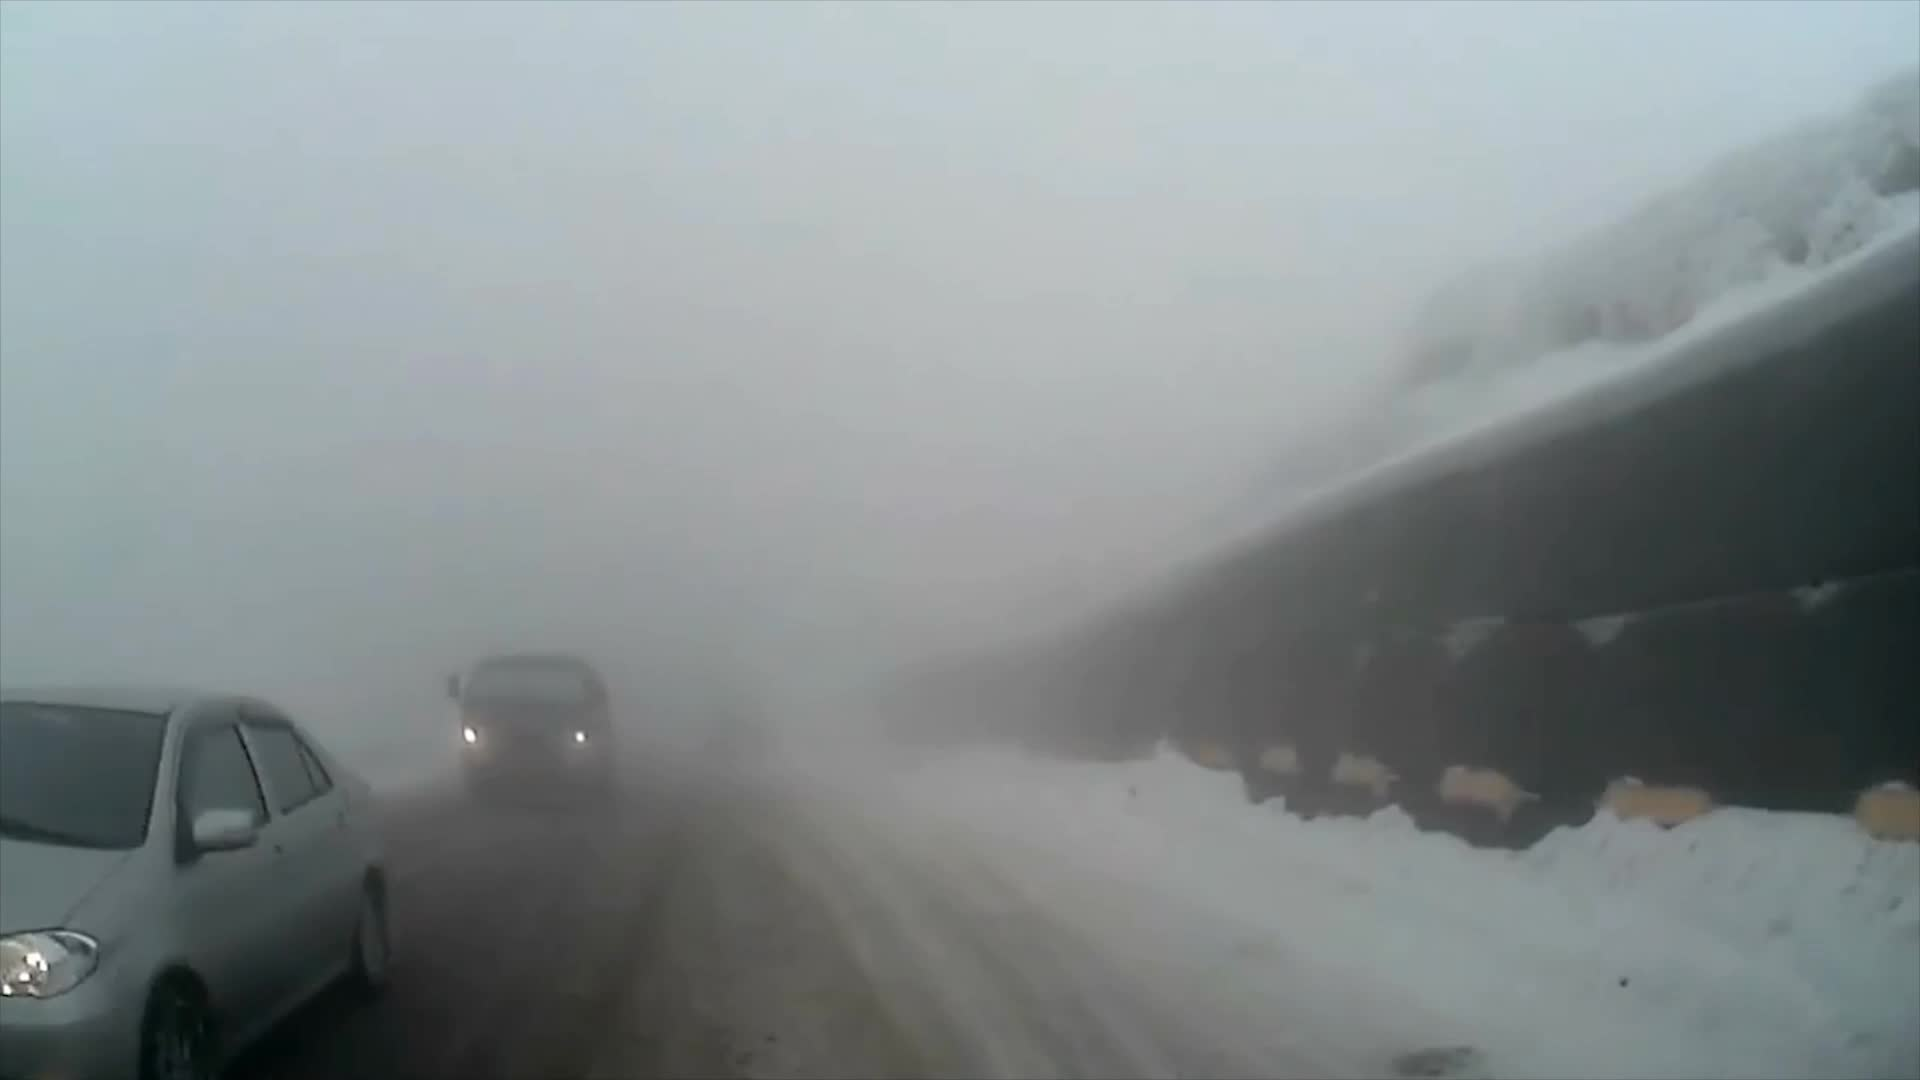vehicle: (0, 678, 394, 1080), (443, 649, 618, 802)
